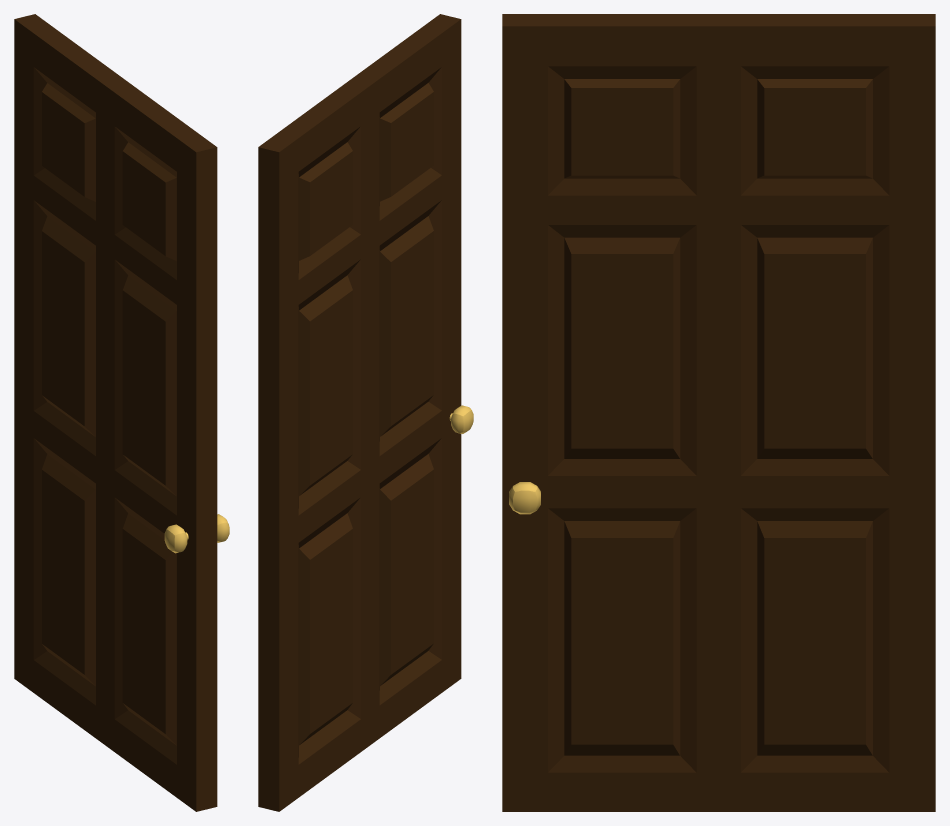
The model's file is door.fbx.
3 views of the same model, side by side, from view 1: azimuth 30°, elevation 25°; view 2: azimuth 150°, elevation 25°; view 3: azimuth 270°, elevation 25° (orthographic). The views are drawn at different scales.
Parts seen in each view (by area): view 1: door; view 2: door; view 3: door.
Part boxes in pixels (x1,y1,x2,y2): door: [14, 14, 229, 811]; door: [258, 14, 473, 811]; door: [502, 14, 935, 811].
Size of the model in its own units: 11.03 by 118 by 59.06.
